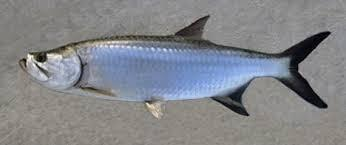Tenpounder: (15, 18, 335, 121)
